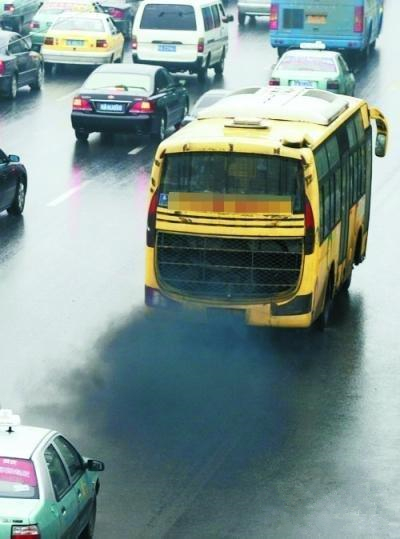smoke: (81, 305, 295, 455)
